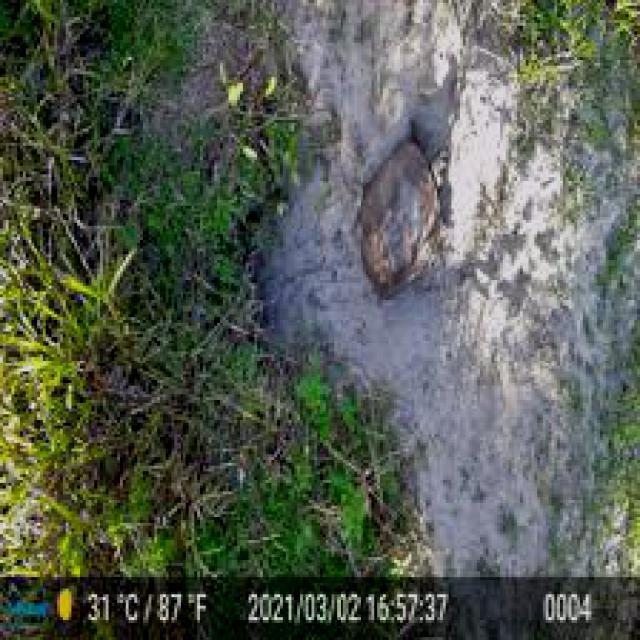tortoise: (357, 134, 449, 300)
